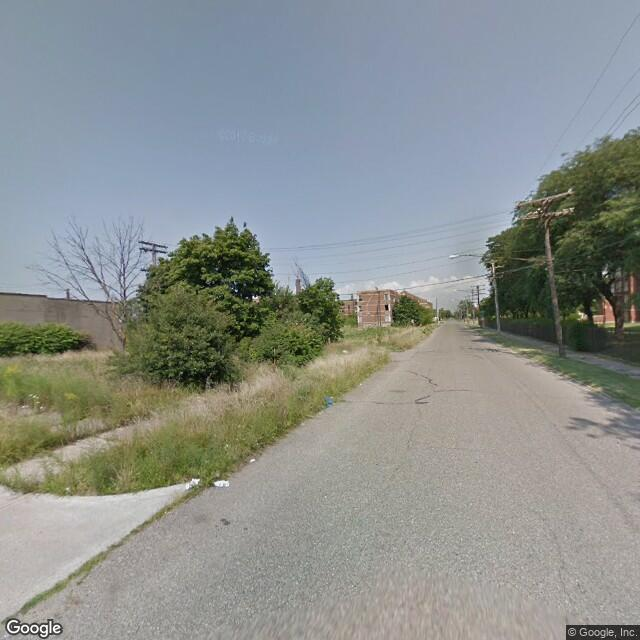litter: (214, 477, 230, 490), (186, 477, 202, 490), (247, 456, 259, 465), (322, 400, 338, 406), (342, 348, 351, 356), (356, 382, 369, 386)
